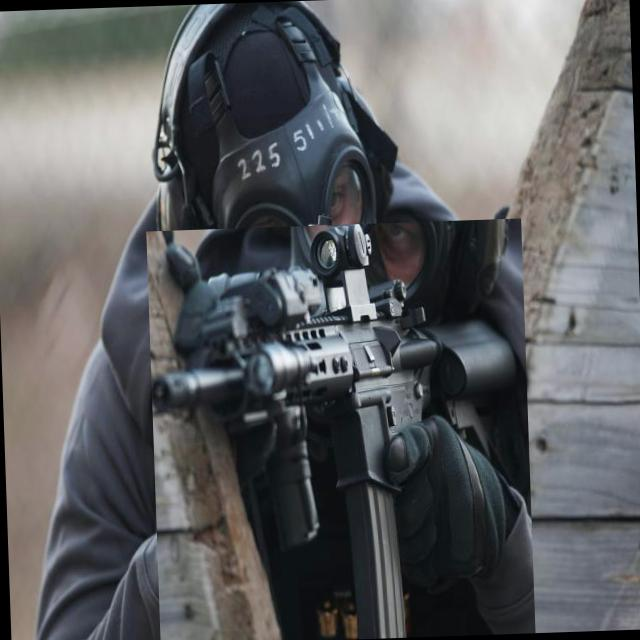Gun: (152, 224, 529, 639)
